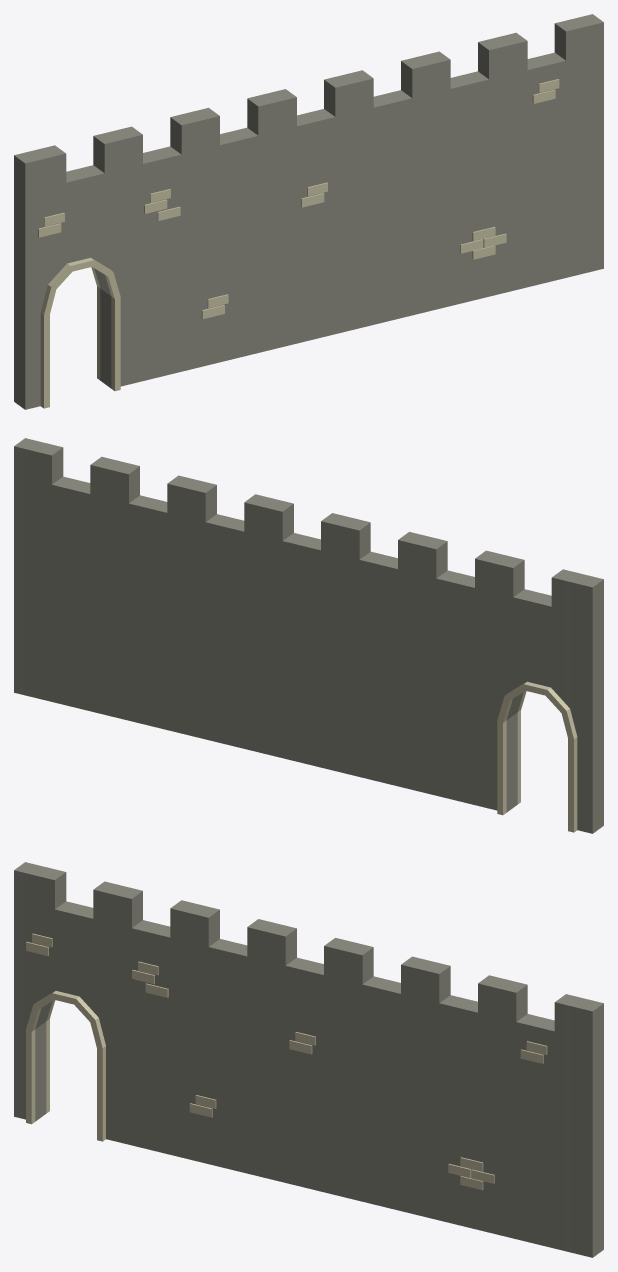
File: Small_Wall_2.fbx
3 renders of one model, top to bottom at view 1: azimuth 30°, elevation 25°; view 2: azimuth 150°, elevation 25°; view 3: azimuth 330°, elevation 25°, orthographic.
Parts seen in each view (by area): view 1: Wall_2; view 2: Wall_2; view 3: Wall_2.
Part boxes in pixels (box(x1,y1,x2,y2)): Wall_2: box(14, 14, 603, 409); Wall_2: box(14, 438, 603, 833); Wall_2: box(14, 862, 603, 1257).
Size of the model in its own units: 286 by 116 by 15.43.
Materials: 1 (1 with a texture image).
